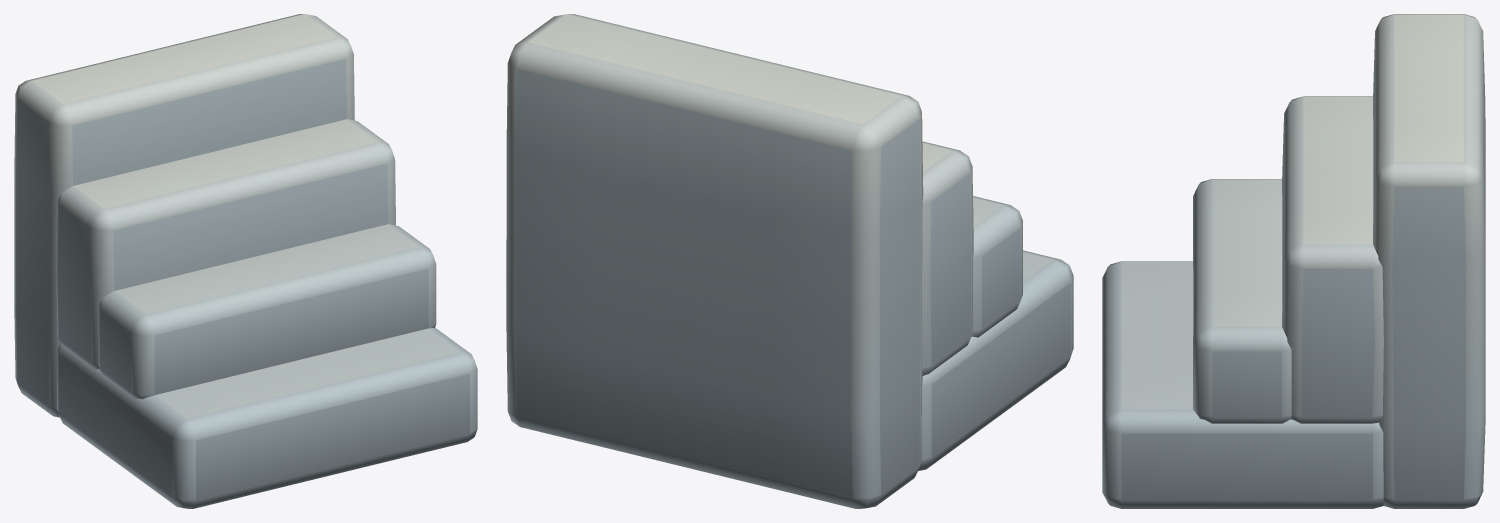
File: Quartz_Plain_Stair_Straight.fbx
The picture shows the model from 3 angles, left to right: view 1: azimuth 30°, elevation 25°; view 2: azimuth 150°, elevation 25°; view 3: azimuth 270°, elevation 25°; orthographic projection. The views are drawn at different scales.
Visible parts, largest first — view 1: Quartz_Plain_Stair_Straight_LOD0; view 2: Quartz_Plain_Stair_Straight_LOD0; view 3: Quartz_Plain_Stair_Straight_LOD0.
Part boxes in pixels (left/top/right/bottom): Quartz_Plain_Stair_Straight_LOD0: left=14, top=14, right=477, bottom=508; Quartz_Plain_Stair_Straight_LOD0: left=506, top=14, right=1073, bottom=508; Quartz_Plain_Stair_Straight_LOD0: left=1102, top=14, right=1485, bottom=508.
Size of what is drawn, in the model's own units: 1.06 by 1.05 by 1.05.
